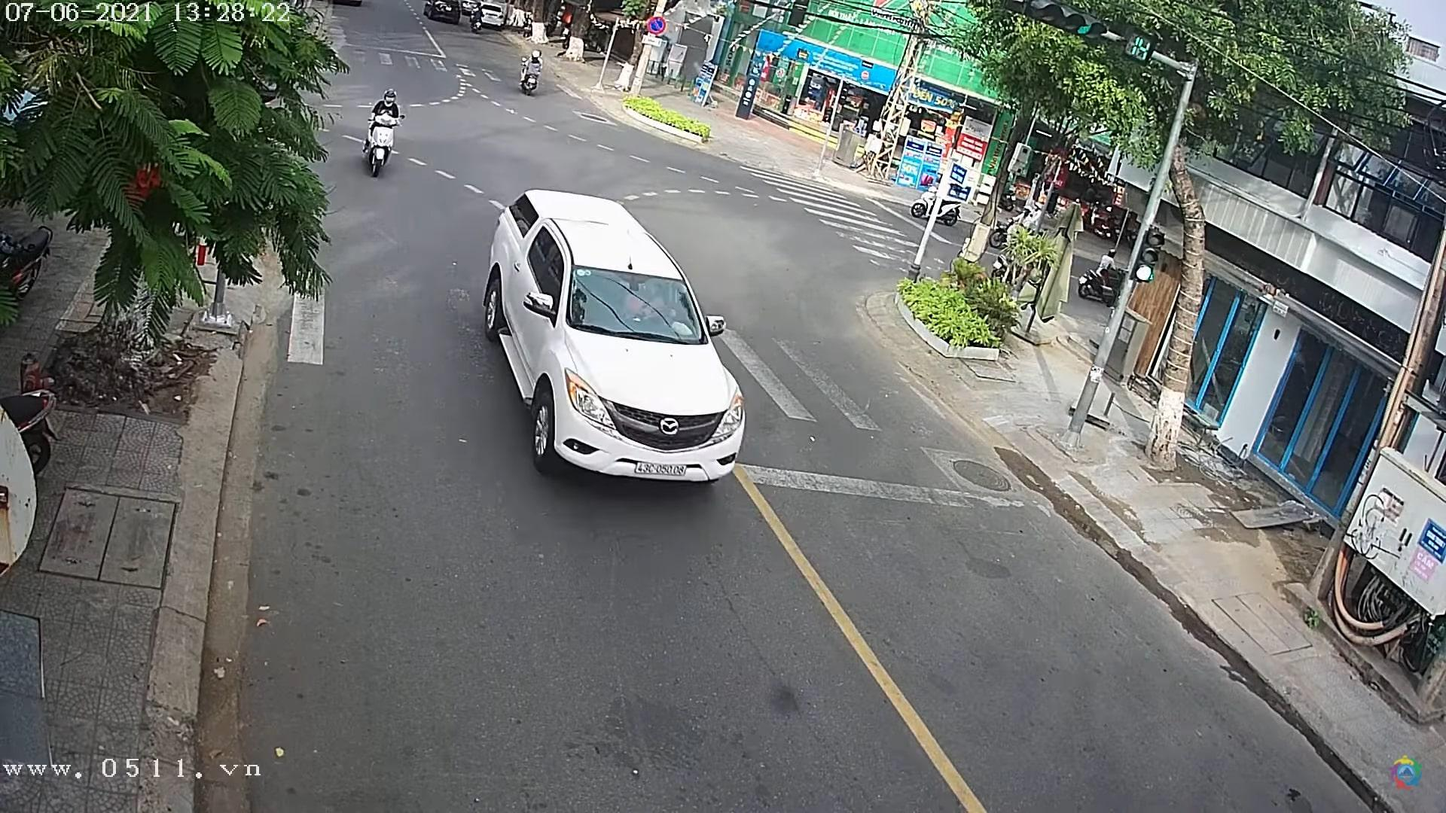car: (481, 191, 752, 485)
